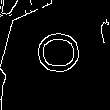O_W: (29, 35, 81, 80)
